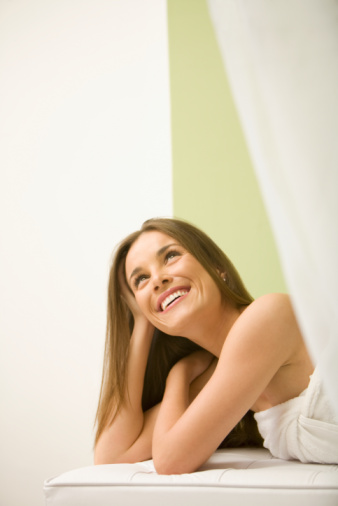deitado: (75, 189, 338, 482)
